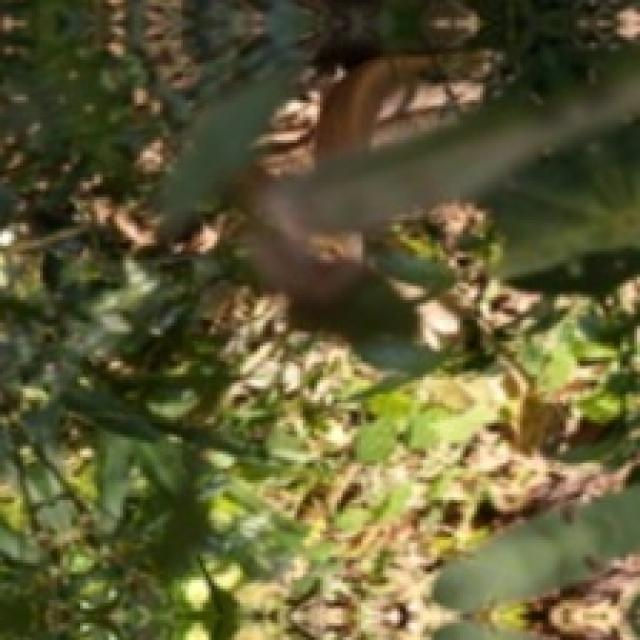king cobra: (315, 56, 430, 164)
